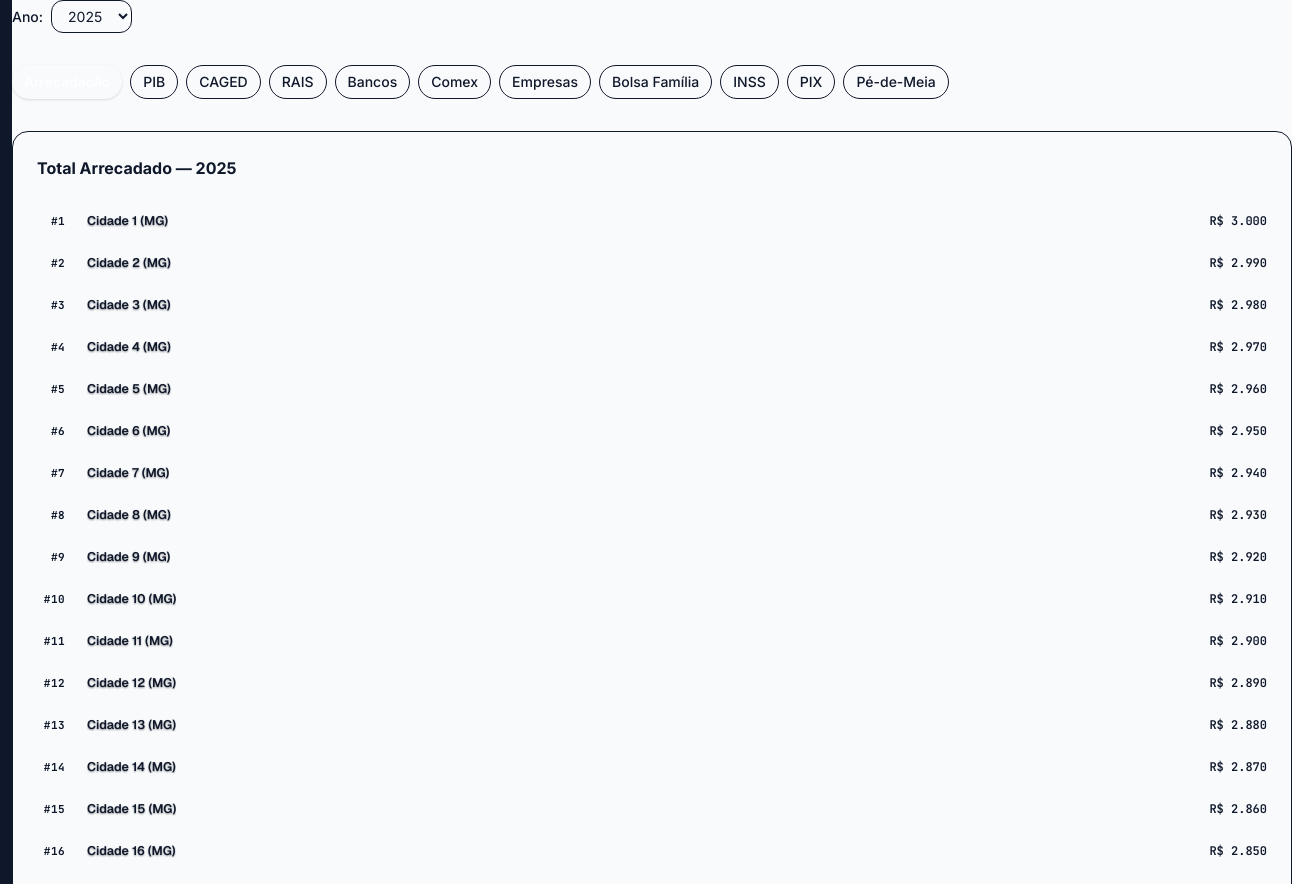
Test case: RankingTab — paginação › comex formata em USD
Step 1. Click the button "Comex" → [455, 82], box left=418, top=65, right=491, bottom=99
(page scrolled)
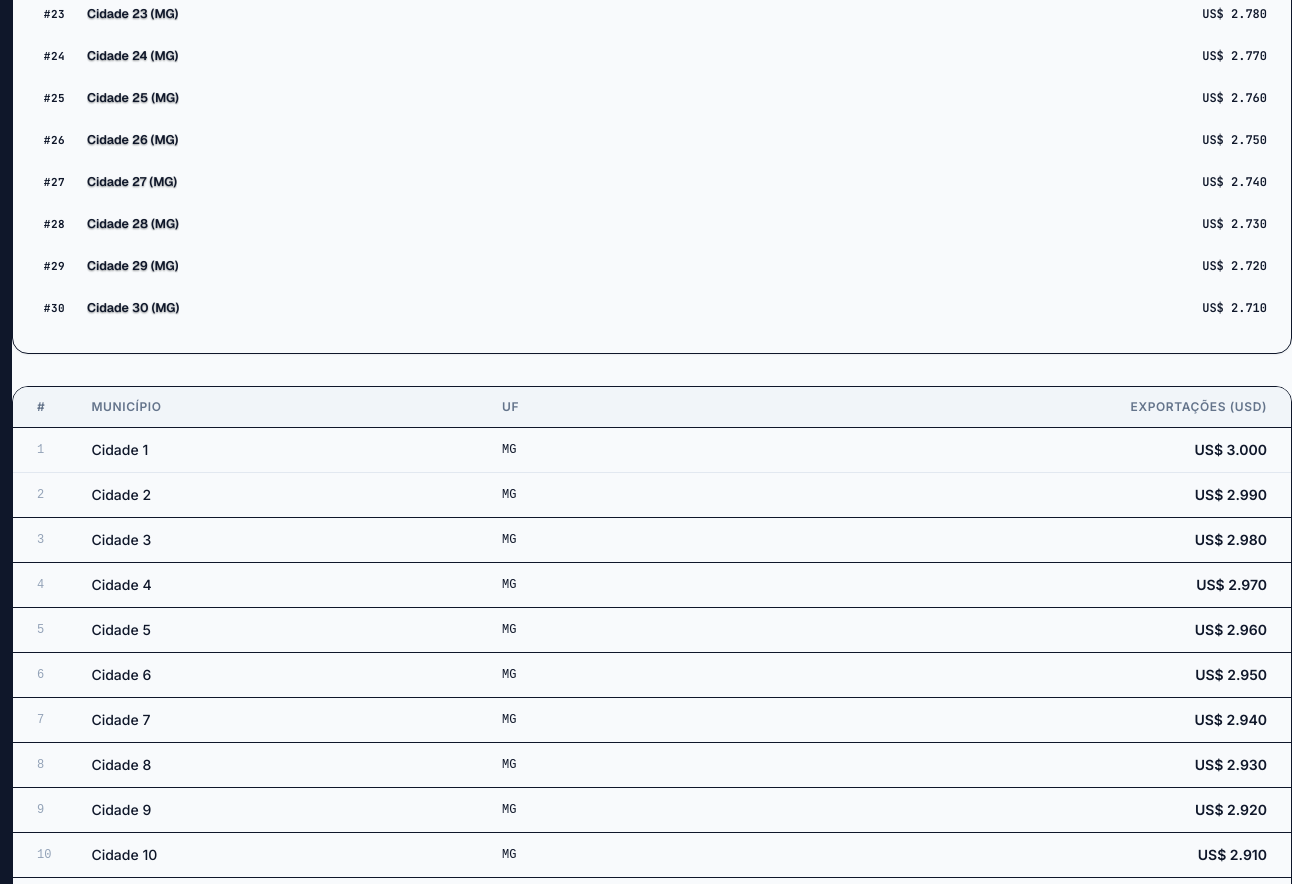
Check: the text "Cidade 1" is shown, box left=75, top=428, right=486, bottom=472
Check: the text "Cidade 1" shows "US$", box left=1195, top=441, right=1267, bottom=458
